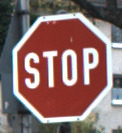stopsign: (13, 12, 111, 124)
